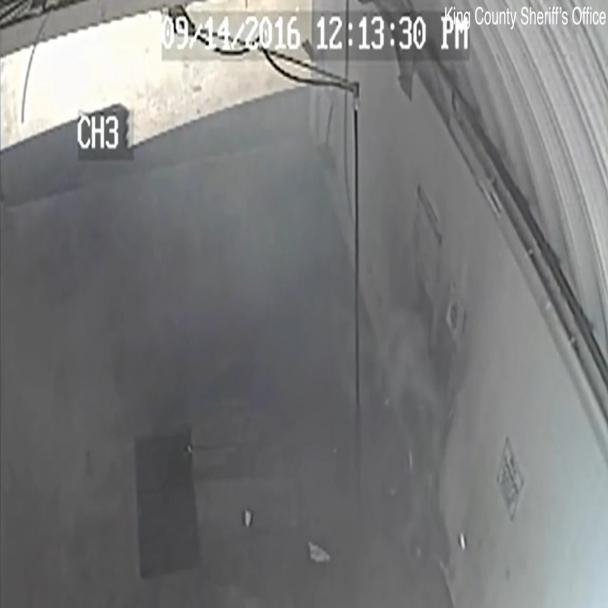smoke: (12, 0, 510, 607)
